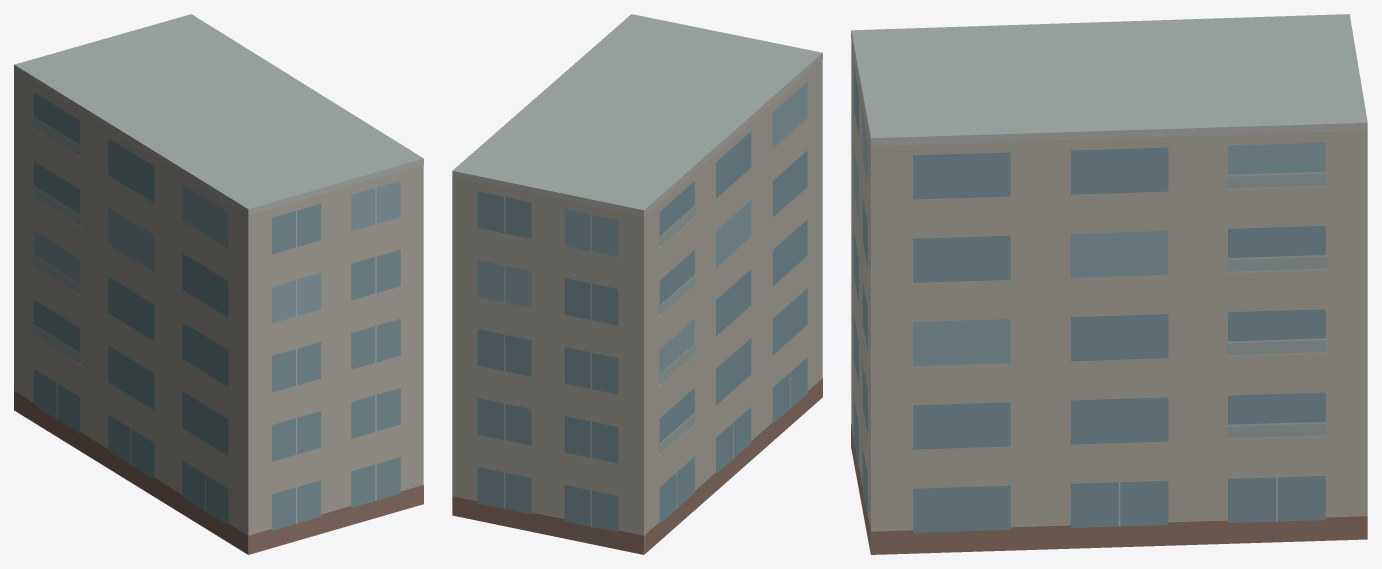
File: survey-upis-32610634.glb
3 renders of one model, left to right at view 1: azimuth 30°, elevation 25°; view 2: azimuth 150°, elevation 25°; view 3: azimuth 270°, elevation 25°, orthographic. The views are drawn at different scales.
Visible parts, largest first — view 1: survey-upis-32610634.tmp; view 2: survey-upis-32610634.tmp; view 3: survey-upis-32610634.tmp.
Part boxes in pixels (bbox=[...]): survey-upis-32610634.tmp: bbox=[14, 14, 423, 554]; survey-upis-32610634.tmp: bbox=[452, 14, 822, 554]; survey-upis-32610634.tmp: bbox=[851, 14, 1367, 554].
Size of the model in its own units: 8.45 by 13.2 by 14.84.
